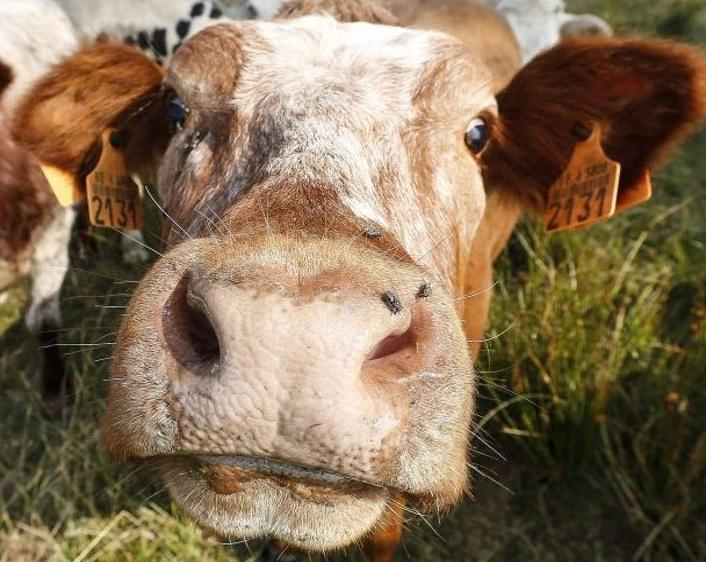muzzles: (102, 229, 479, 553)
